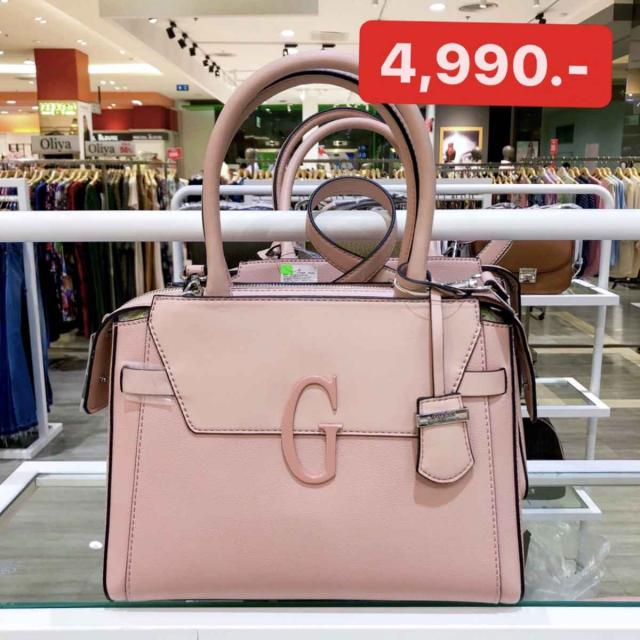handbag: (86, 237, 534, 616)
